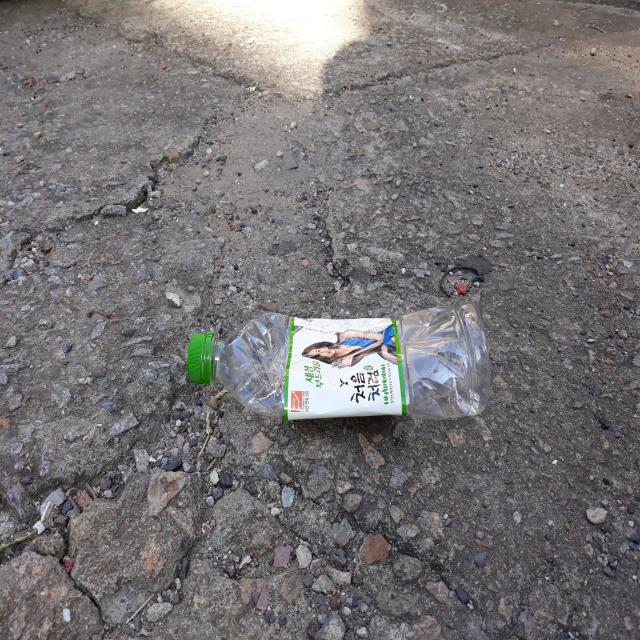plastic: (187, 303, 491, 420)
